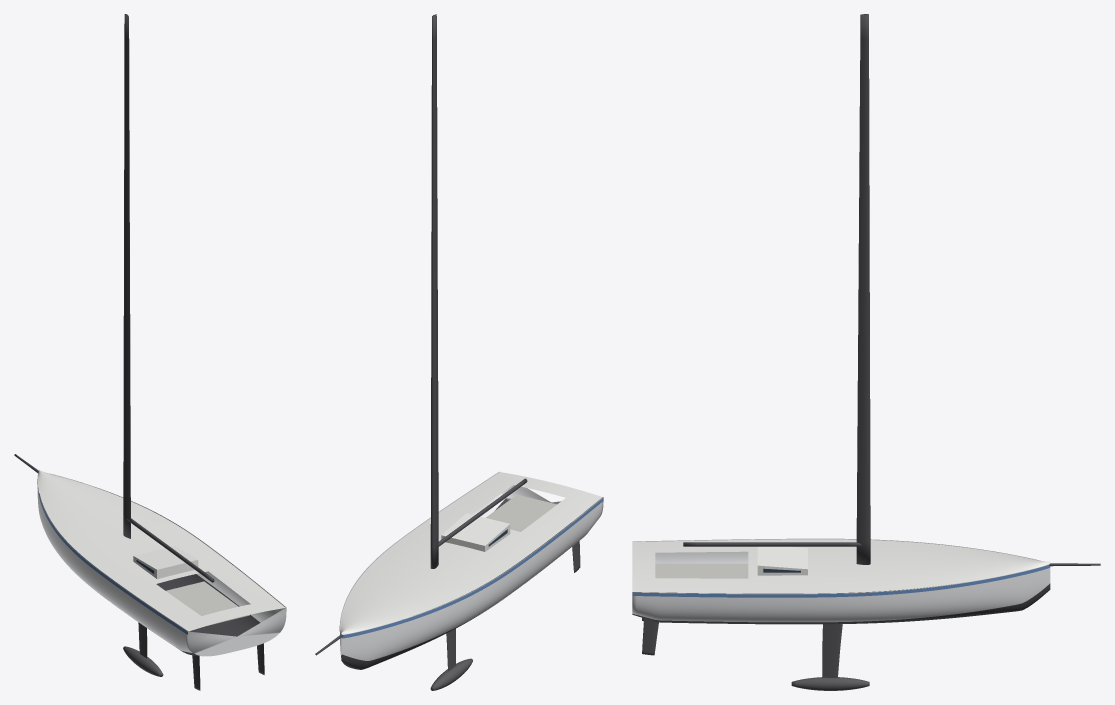
Rendered from prb.glb.
3 views of the same model, side by side, from view 1: azimuth 30°, elevation 25°; view 2: azimuth 150°, elevation 25°; view 3: azimuth 270°, elevation 25° (orthographic). The views are drawn at different scales.
Parts seen in each view (by area): view 1: pont, coque, mat, fond, cockpit, rouf, bande, app_bulbe, pivot_bome; view 2: pont, coque, mat, rouf, cockpit, bande, fond, app_bulbe, pivot_bome; view 3: pont, coque, mat, fond, bande, cockpit, rouf, app_quille, pivot_bome, app_bulbe.
Boxes of the visible parts, x1=… form: pont: x1=37, y1=470, x2=285, y2=631; coque: x1=37, y1=473, x2=286, y2=656; mat: x1=123, y1=14, x2=130, y2=538; fond: x1=39, y1=493, x2=260, y2=655; cockpit: x1=166, y1=581, x2=249, y2=625; rouf: x1=133, y1=546, x2=198, y2=579; bande: x1=37, y1=479, x2=187, y2=634; app_bulbe: x1=123, y1=646, x2=163, y2=676; pivot_bome: x1=127, y1=518, x2=214, y2=582; pont: x1=340, y1=472, x2=602, y2=634; coque: x1=340, y1=471, x2=603, y2=660; mat: x1=430, y1=14, x2=438, y2=568; rouf: x1=441, y1=513, x2=510, y2=551; cockpit: x1=485, y1=494, x2=556, y2=531; bande: x1=339, y1=498, x2=603, y2=638; fond: x1=341, y1=498, x2=571, y2=669; app_bulbe: x1=430, y1=658, x2=472, y2=690; pivot_bome: x1=437, y1=478, x2=527, y2=546; pont: x1=632, y1=539, x2=1050, y2=593; coque: x1=632, y1=538, x2=1050, y2=622; mat: x1=856, y1=14, x2=870, y2=564; fond: x1=632, y1=583, x2=1050, y2=624; bande: x1=632, y1=565, x2=1050, y2=597; cockpit: x1=655, y1=563, x2=748, y2=578; rouf: x1=757, y1=546, x2=807, y2=575; app_quille: x1=822, y1=624, x2=842, y2=677; pivot_bome: x1=683, y1=542, x2=861, y2=546; app_bulbe: x1=791, y1=677, x2=869, y2=690.
Bounding box in the file's own units: 5.71 × 32.59 × 20.48.
